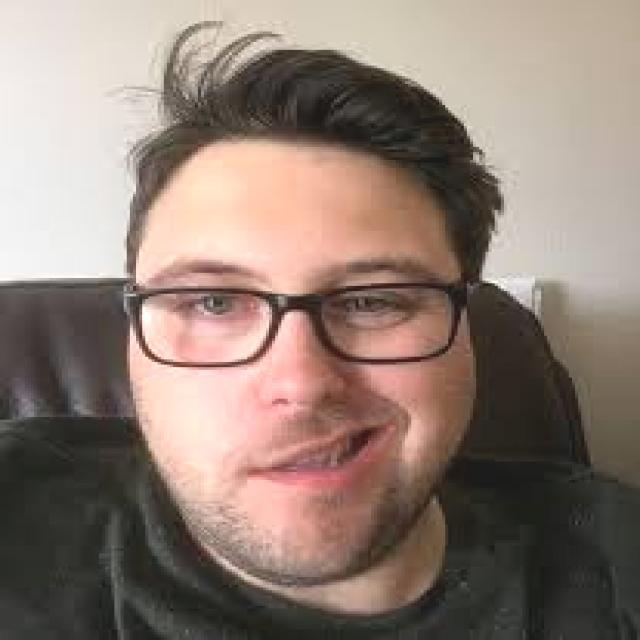stroke_face: (133, 78, 477, 554)
